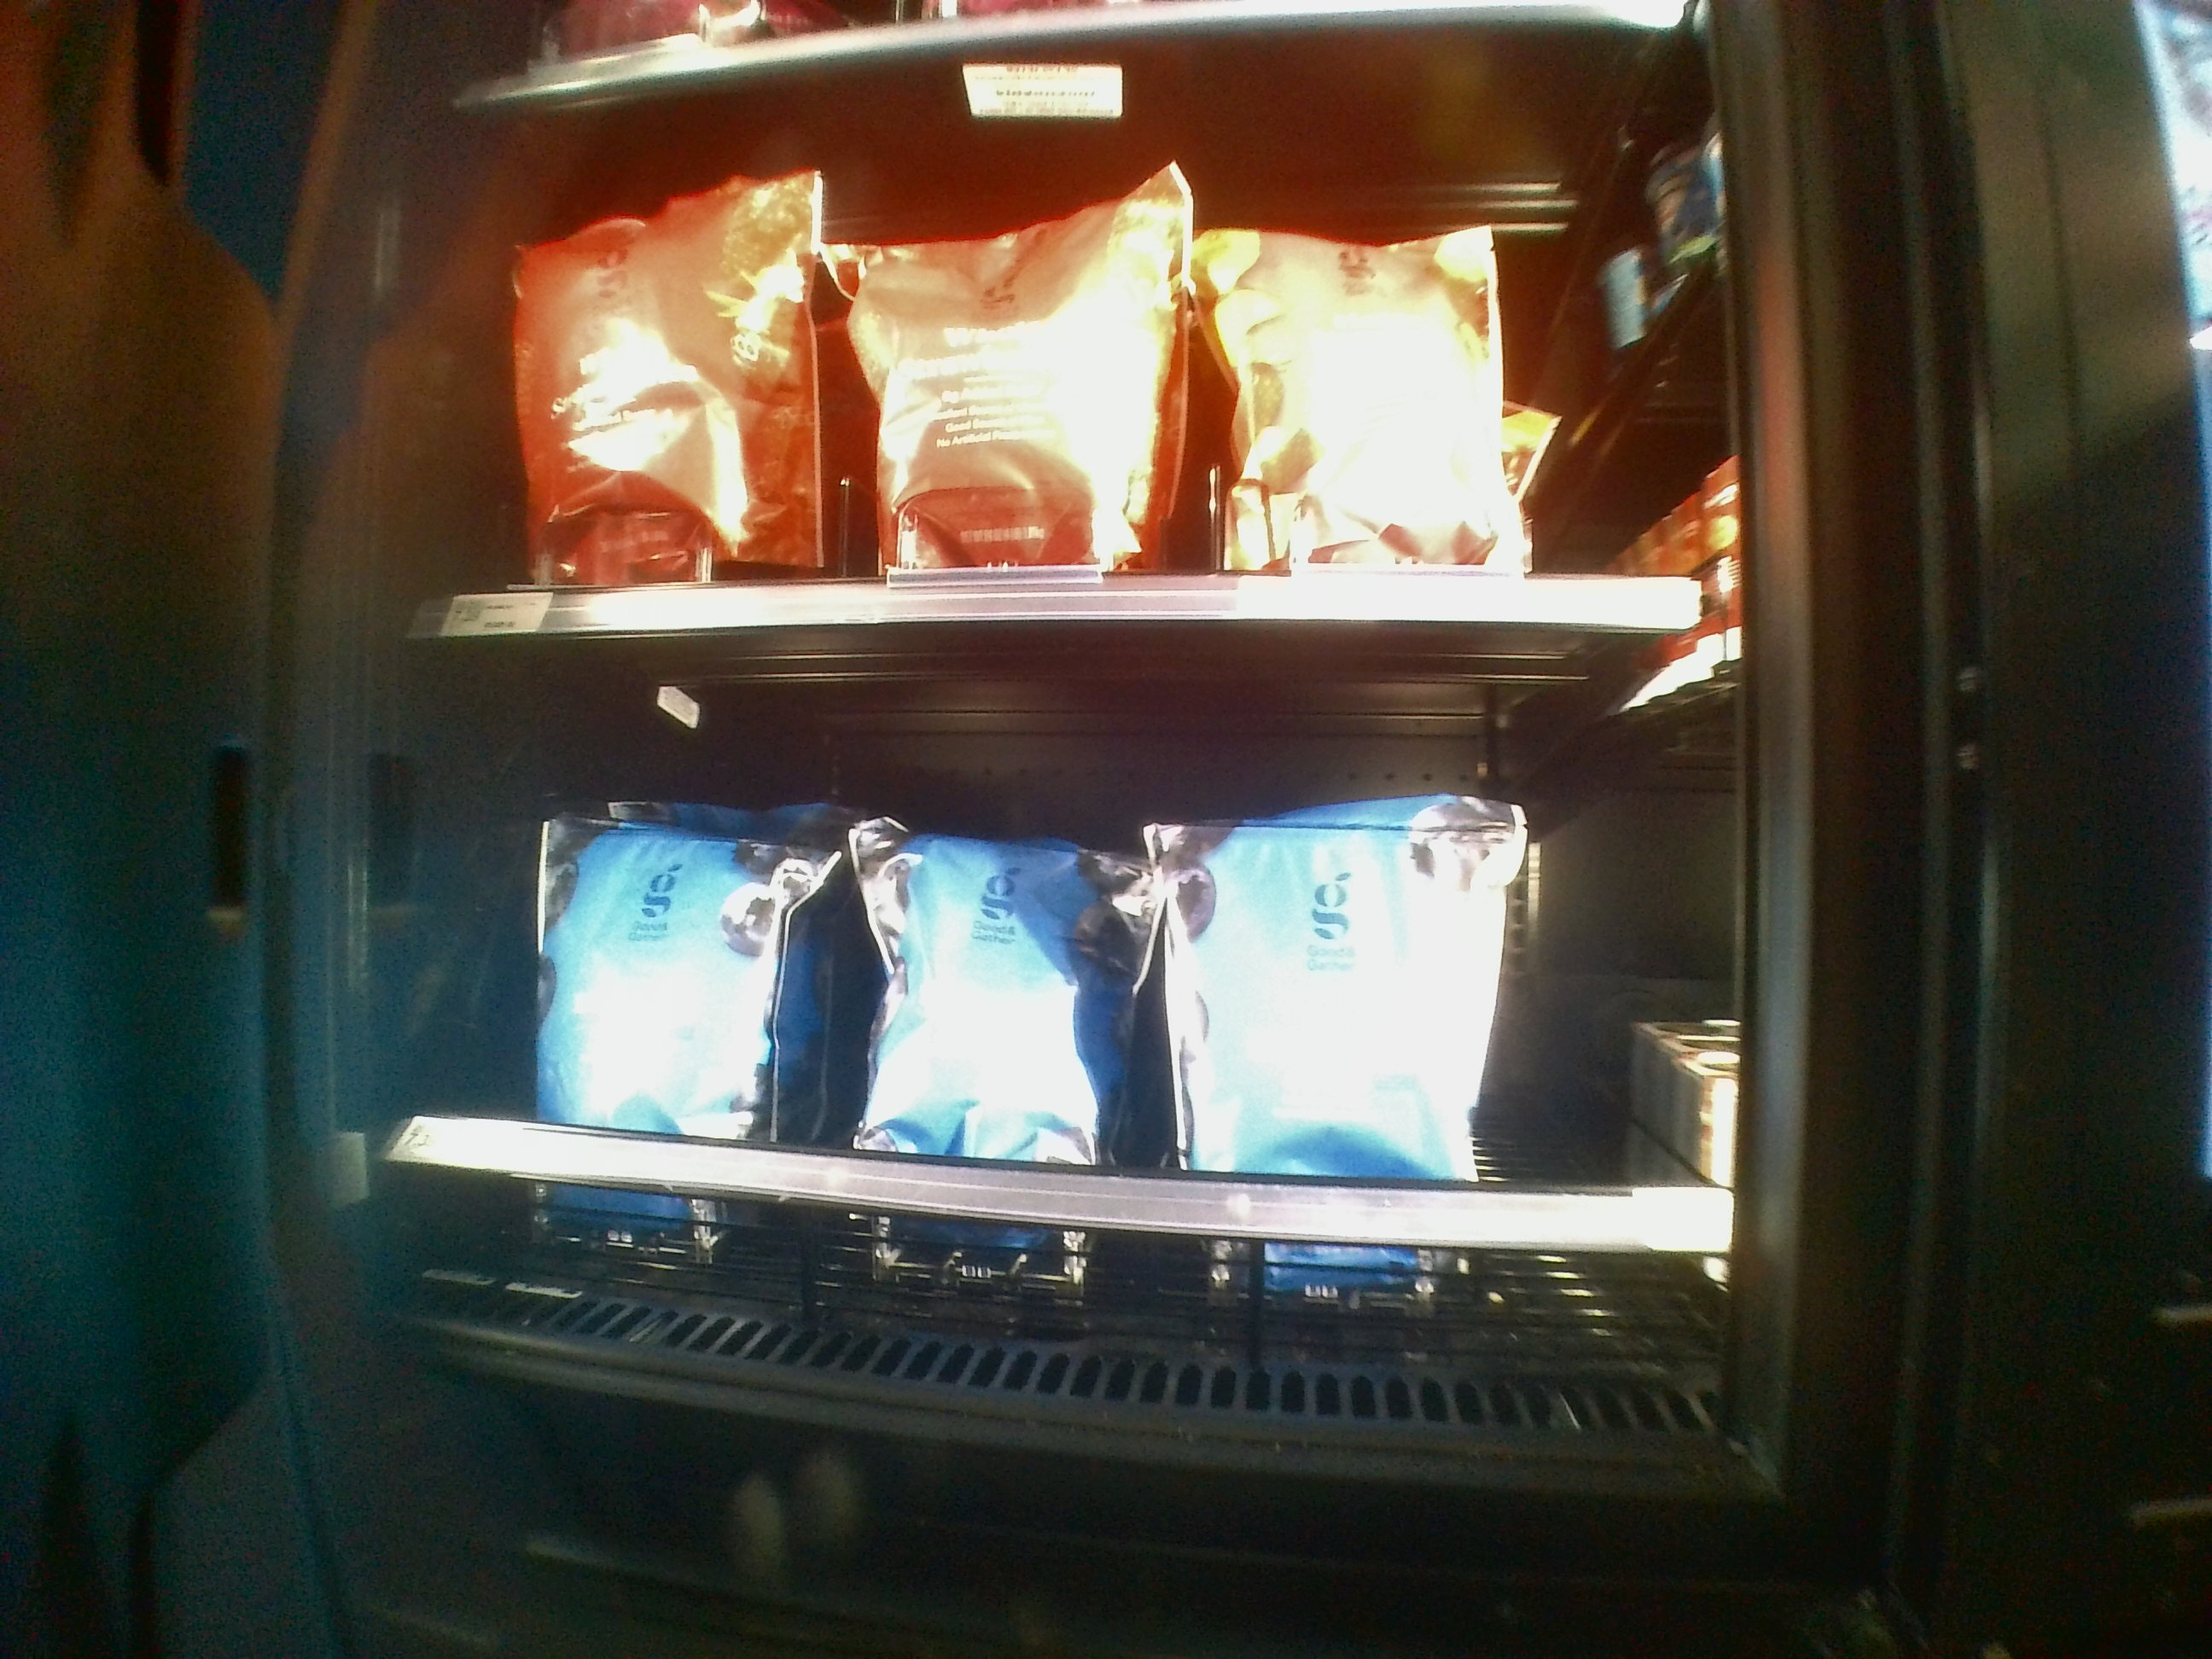shelf: (425, 634, 1723, 1446), (444, 54, 1716, 638)
